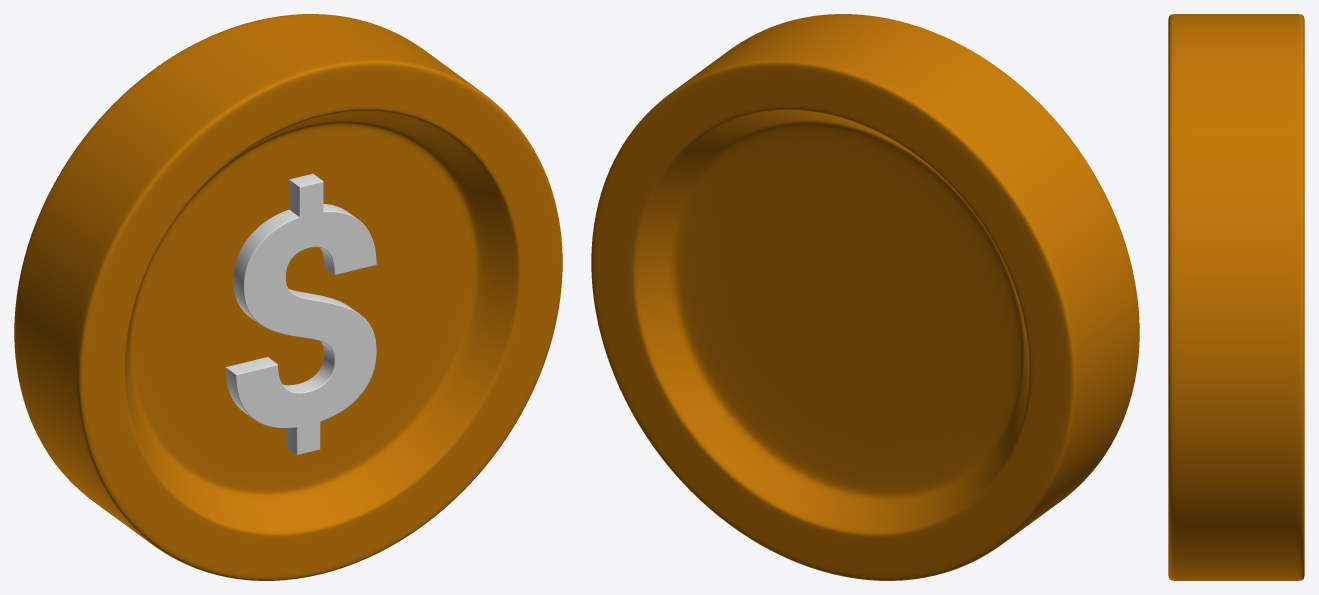
Rendered from dollar.glb.
3 renders of one model, left to right at view 1: azimuth 30°, elevation 25°; view 2: azimuth 150°, elevation 25°; view 3: azimuth 270°, elevation 25°, orthographic.
Visible parts, largest first — view 1: Dollar; view 2: Dollar; view 3: Dollar.
Boxes of the visible parts, left/top/right/bottom form: Dollar: left=14, top=14, right=562, bottom=580; Dollar: left=591, top=14, right=1139, bottom=580; Dollar: left=1168, top=14, right=1304, bottom=580.
Size of the model in its own units: 1.86 by 1.86 by 0.448.
